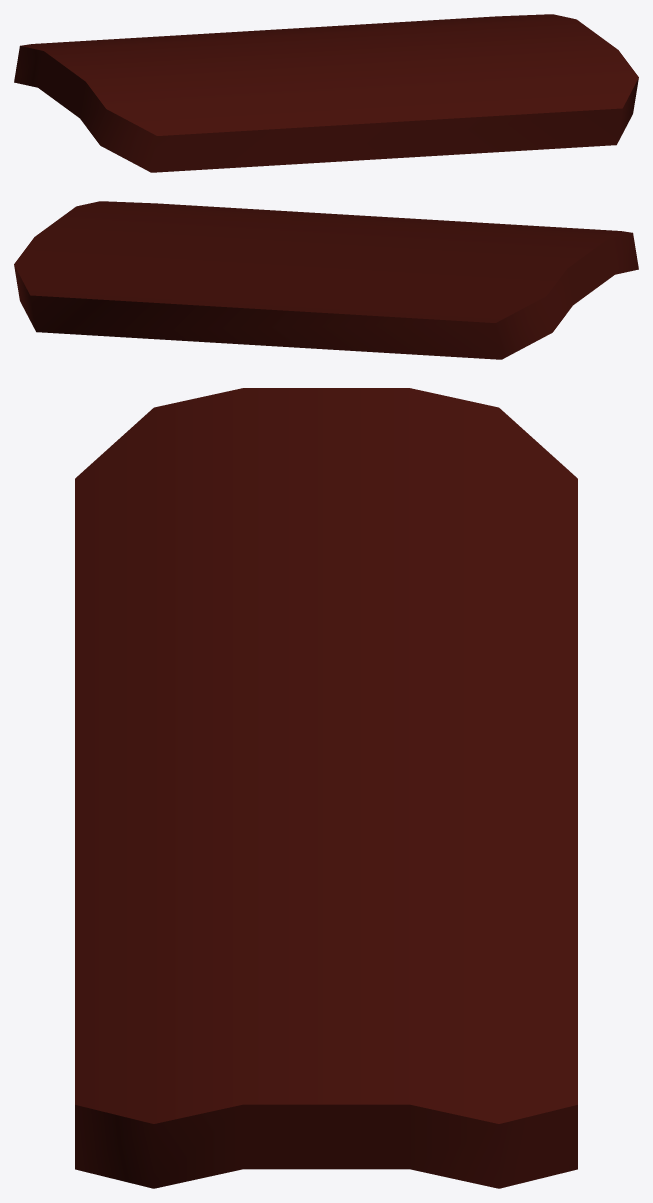
The model's file is RoofTileTop.FBX.
The picture shows the model from 3 angles, top to bottom: view 1: azimuth 30°, elevation 25°; view 2: azimuth 150°, elevation 25°; view 3: azimuth 270°, elevation 25°; orthographic projection. The views are drawn at different scales.
Visible parts, largest first — view 1: RoofTileTop; view 2: RoofTileTop; view 3: RoofTileTop.
Boxes of the visible parts, <box> form: RoofTileTop: <box>14,14,638,172</box>; RoofTileTop: <box>14,201,638,359</box>; RoofTileTop: <box>75,388,577,1188</box>.
Bounding box in the file's own units: 79.02 × 21.24 × 31.86.
